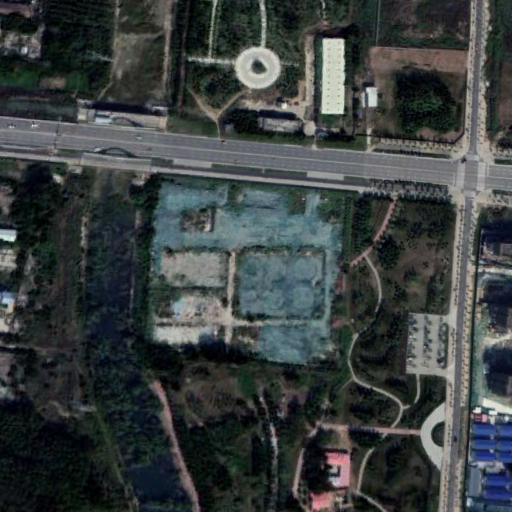cw: (151, 179, 335, 368)
